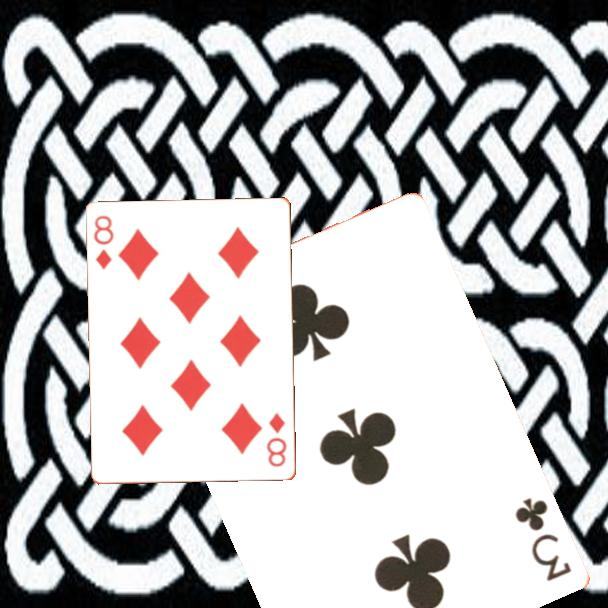c03: (512, 494, 575, 585)
d08: (263, 409, 290, 470), (90, 212, 117, 273)
